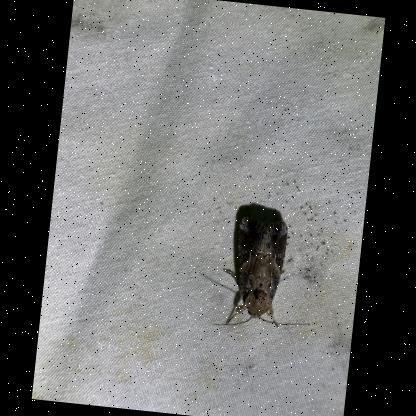Fall Armyworm Moth: (209, 211, 322, 338)
